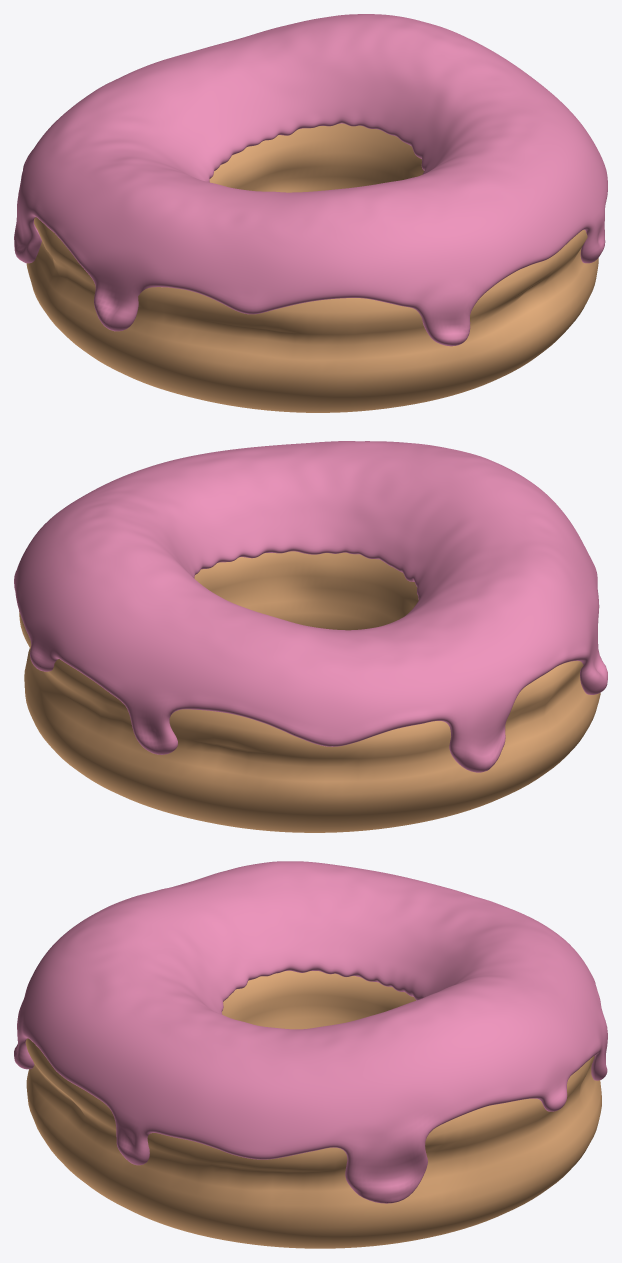
The model's file is krofna_2_-_Copy(1).fbx.
3 views of the same model, one above another, from view 1: azimuth 30°, elevation 25°; view 2: azimuth 150°, elevation 25°; view 3: azimuth 270°, elevation 25° (orthographic). The views are drawn at different scales.
Parts seen in each view (by area): view 1: preliv, krofna; view 2: preliv, krofna; view 3: preliv, krofna.
Boxes of the visible parts, left/top/right/bottom form: preliv: left=14, top=14, right=607, bottom=346; krofna: left=26, top=123, right=598, bottom=412; preliv: left=14, top=441, right=607, bottom=772; krofna: left=19, top=551, right=600, bottom=832; preliv: left=14, top=861, right=607, bottom=1203; krofna: left=25, top=970, right=601, bottom=1248.
Bounding box in the file's own units: 14.49 × 5.95 × 14.59.
